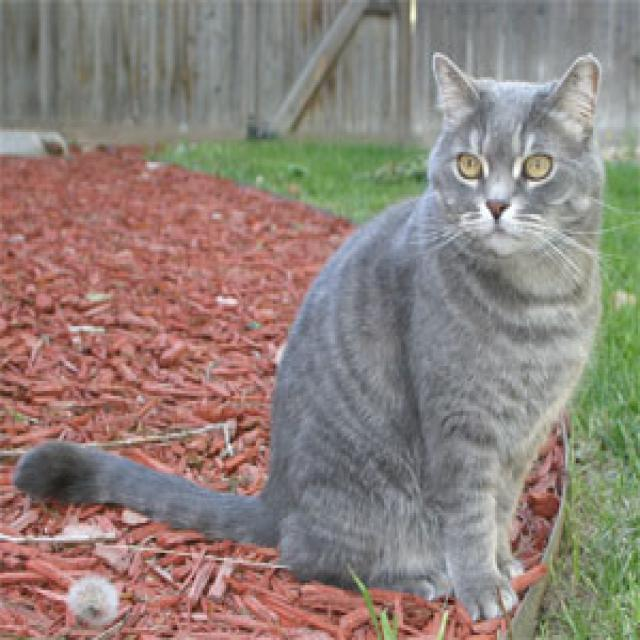British_Shorthair: (422, 45, 606, 286)
